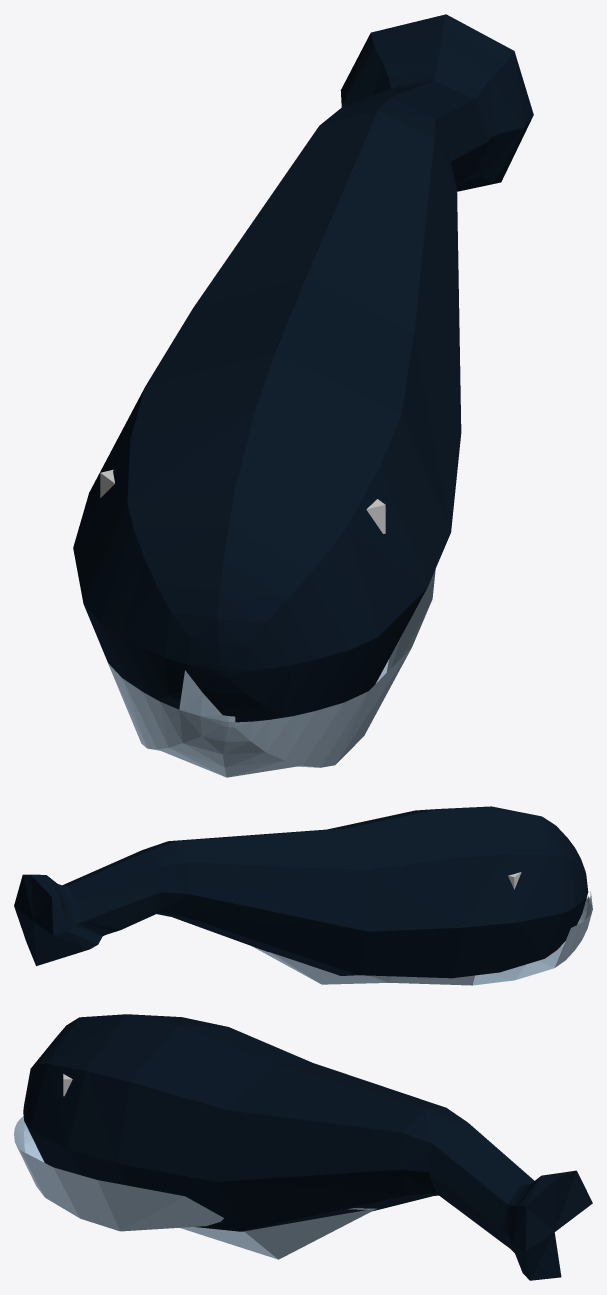
File: Whales.dae
The picture shows the model from 3 angles, top to bottom: view 1: azimuth 30°, elevation 25°; view 2: azimuth 150°, elevation 25°; view 3: azimuth 270°, elevation 25°; orthographic projection. The views are drawn at different scales.
Parts seen in each view (by area): view 1: Cube, Cube_001; view 2: Cube, Cube_001; view 3: Cube, Cube_001.
Boxes of the visible parts, <box> form: Cube: <box>73,14,533,722</box>; Cube_001: <box>108,569,435,777</box>; Cube: <box>14,806,588,978</box>; Cube_001: <box>252,891,592,985</box>; Cube: <box>23,1014,592,1280</box>; Cube_001: <box>14,1116,376,1259</box>.
Size of the model in its own units: 1.45 by 1.59 by 0.6373.
